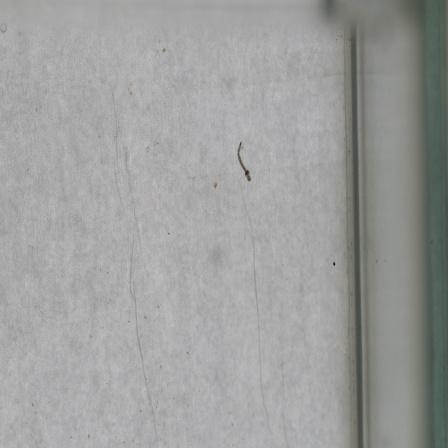Jentik-Nyamuk: (233, 137, 253, 183)
